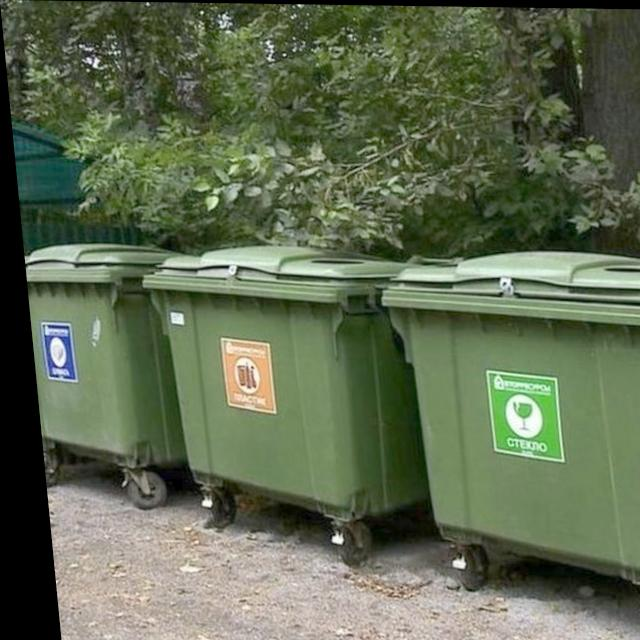Trash_Can_Closed: (374, 248, 640, 589), (134, 243, 426, 518), (20, 242, 190, 468)
